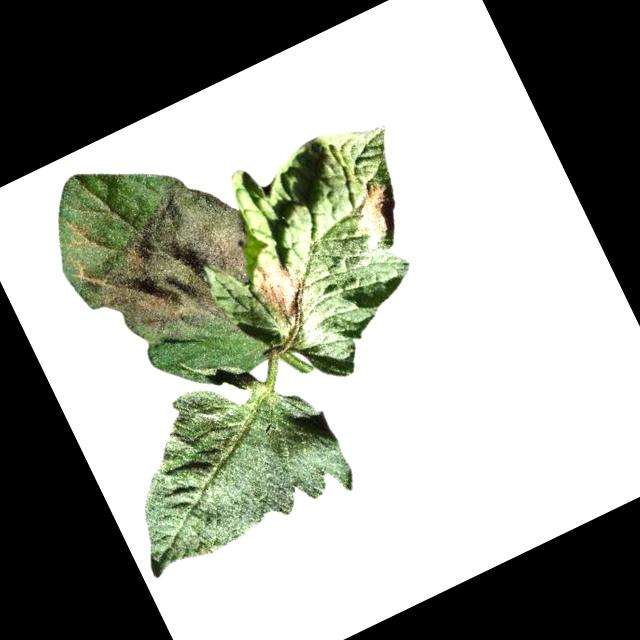Late_blight: (35, 153, 287, 389), (247, 248, 319, 330), (345, 178, 406, 244)
healthy: (87, 340, 360, 584)
